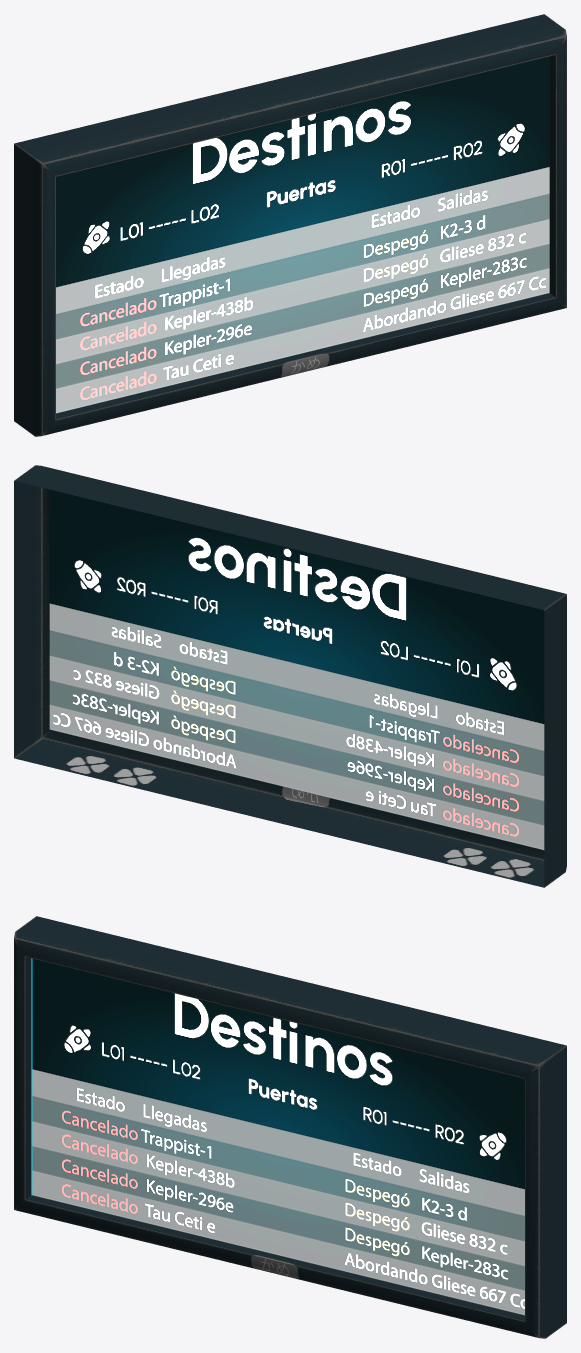
File: Tx_Televisor_Pasillo_ESC.fbx
3 renders of one model, top to bottom at view 1: azimuth 30°, elevation 25°; view 2: azimuth 150°, elevation 25°; view 3: azimuth 330°, elevation 25°, orthographic.
Visible parts, largest first — view 1: Televisor_pasillo_geo; view 2: Televisor_pasillo_geo; view 3: Televisor_pasillo_geo.
Boxes of the visible parts, bbox=[...] form: Televisor_pasillo_geo: bbox=[14, 14, 566, 436]; Televisor_pasillo_geo: bbox=[14, 465, 566, 887]; Televisor_pasillo_geo: bbox=[14, 916, 566, 1338].
Bounding box in the file's own units: 81.31 × 40.65 × 7.11.
Materials: 1 (1 with a texture image).
